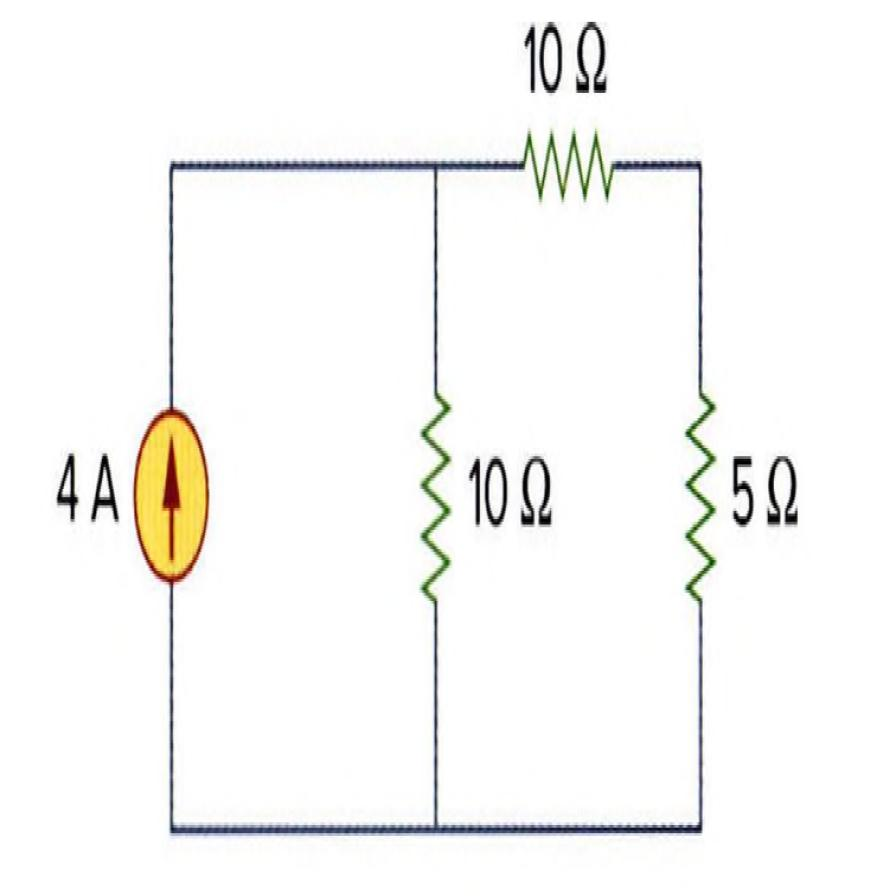I1: (129, 398, 213, 610)
R1: (514, 113, 620, 232)
R2: (404, 374, 462, 619), (676, 378, 724, 629)
